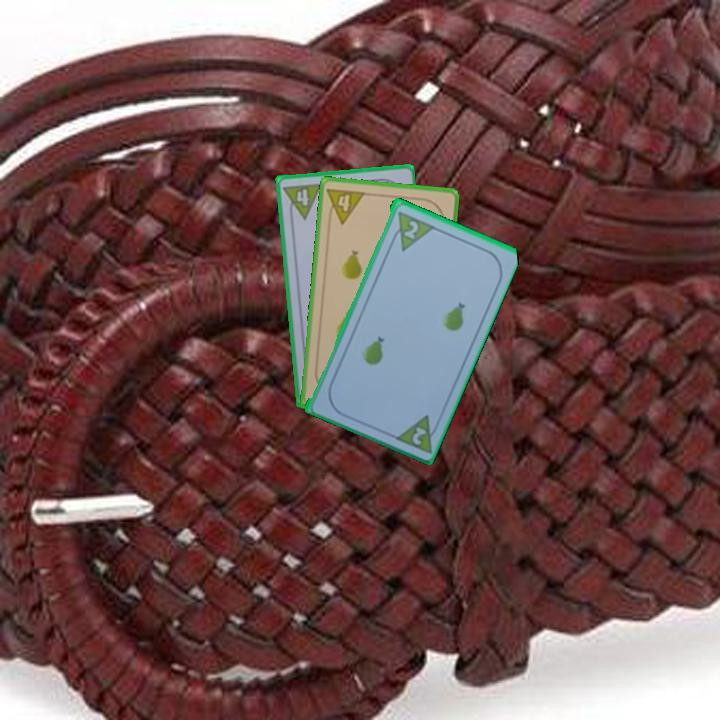2p: (408, 423, 429, 448), (400, 217, 421, 241)
4p: (280, 180, 324, 223), (323, 185, 368, 227)
